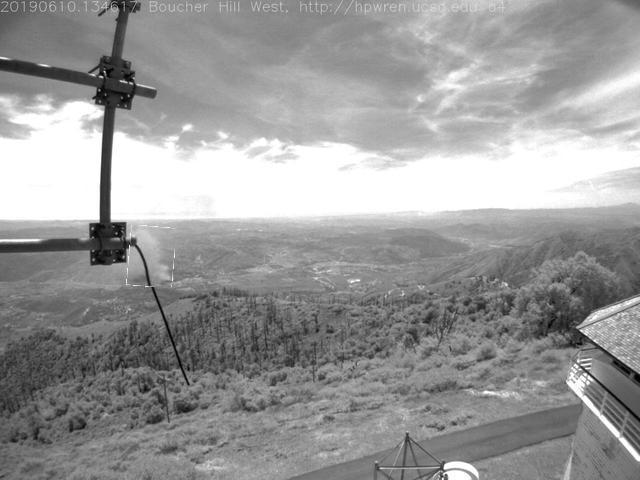smoke: (129, 227, 176, 289)
